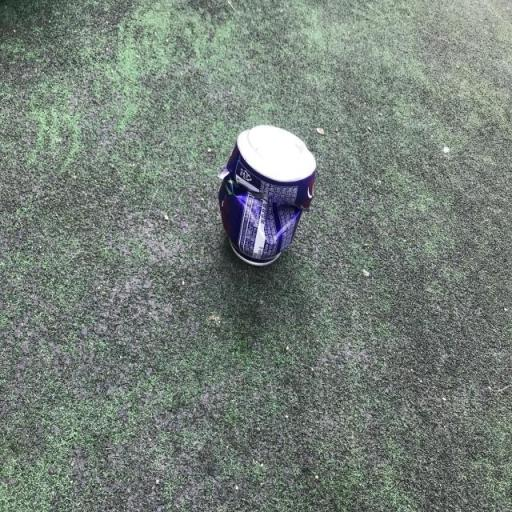metal: (207, 108, 334, 288)
